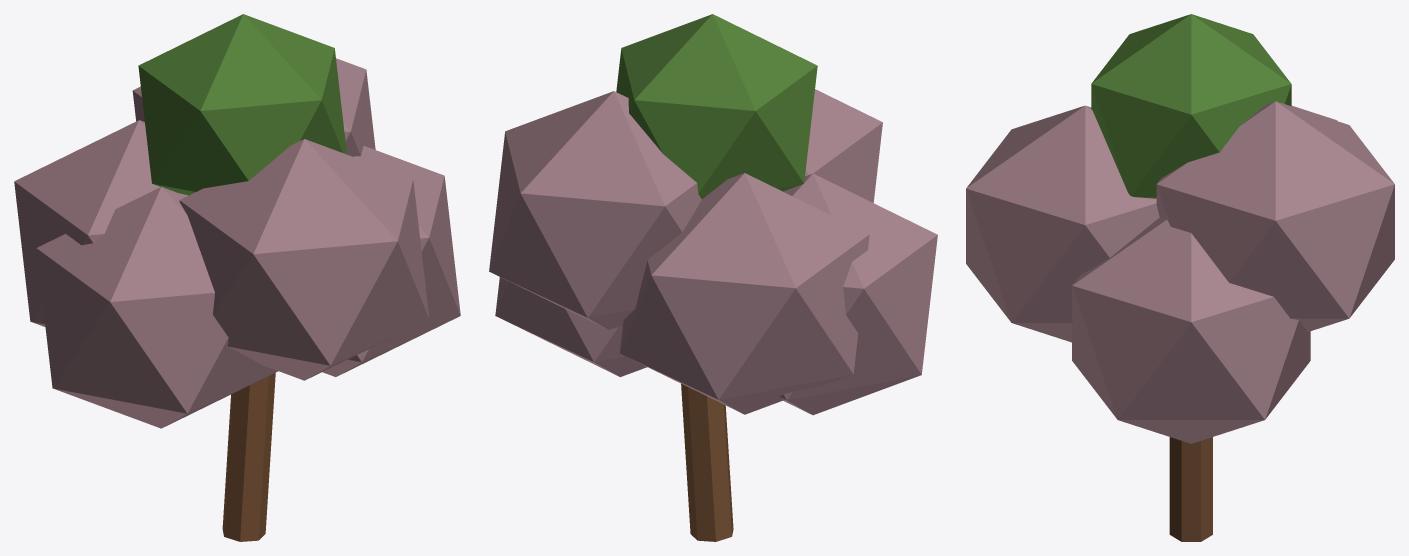
File: tree_27.glb
3 renders of one model, left to right at view 1: azimuth 30°, elevation 25°; view 2: azimuth 150°, elevation 25°; view 3: azimuth 270°, elevation 25°, orthographic.
Parts seen in each view (by area): view 1: tree_27; view 2: tree_27; view 3: tree_27.
Part boxes in pixels (x1=…): tree_27: x1=14, y1=14, x2=460, y2=541; tree_27: x1=489, y1=14, x2=937, y2=541; tree_27: x1=966, y1=14, x2=1394, y2=541.
Size of the model in its own units: 1.45 by 1.8 by 1.35.
